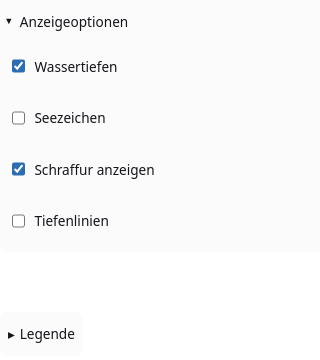
Test: #681 independent hazard-hatch toggle › disables the hatch checkbox while the base depth toggle is off, and re-enables it once depthVisible returns (#384 defect class)
Expected: the checkbox labelled "Schraffur anzeigen" is enabled, top-left (12, 149), bottom-right (25, 189)
Click the checkbox labelled "Wassertiefen": (18, 66) top-left (12, 46), bottom-right (25, 86)
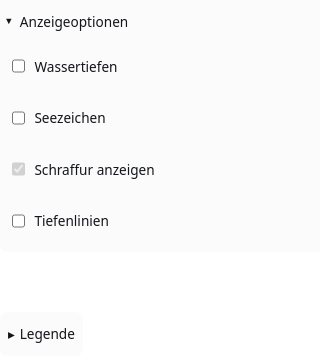
Expected: the checkbox labelled "Wassertiefen" is not checked
Expected: the checkbox labelled "Schraffur anzeigen" is disabled, top-left (12, 149), bottom-right (25, 189)
Click the checkbox labelled "Wassertiefen": (18, 66) top-left (12, 46), bottom-right (25, 86)
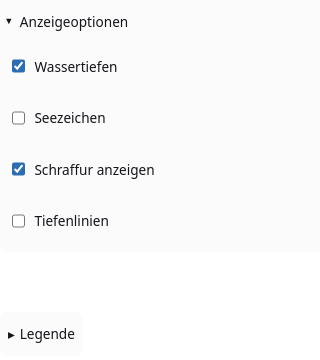
Expected: the checkbox labelled "Wassertiefen" is checked, top-left (12, 46), bottom-right (25, 86)
Expected: the checkbox labelled "Schraffur anzeigen" is enabled, top-left (12, 149), bottom-right (25, 189)
